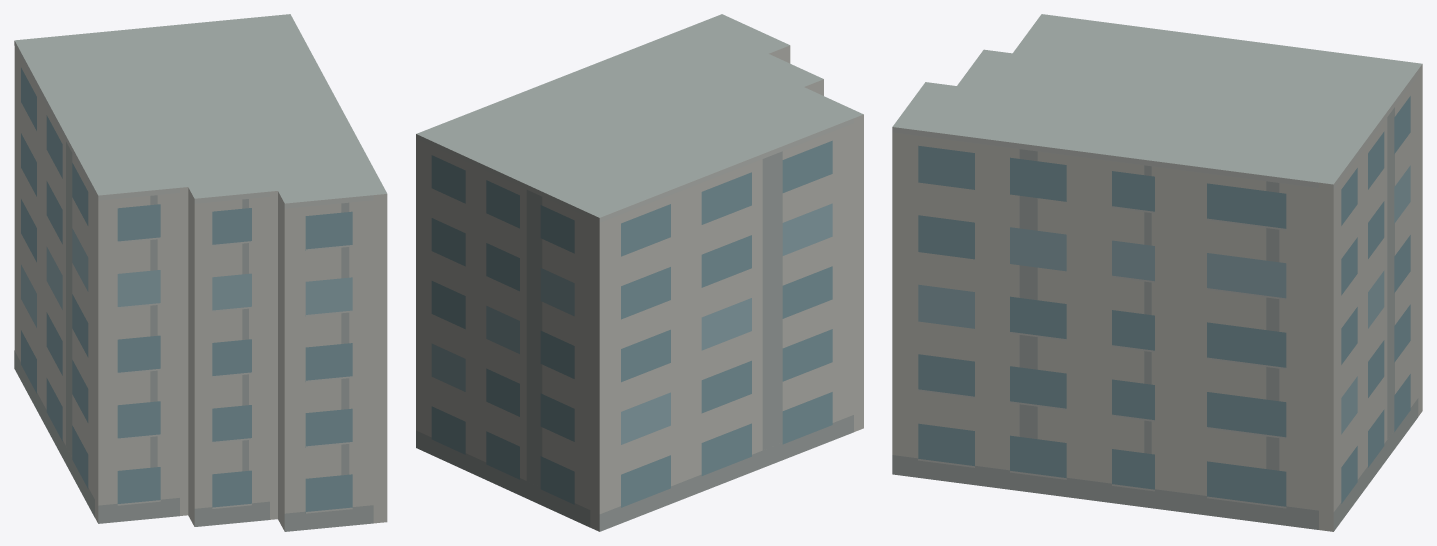
Rendered from survey-upis-32814031.glb.
3 views of the same model, side by side, from view 1: azimuth 30°, elevation 25°; view 2: azimuth 150°, elevation 25°; view 3: azimuth 270°, elevation 25° (orthographic). The views are drawn at different scales.
Visible parts, largest first — view 1: survey-upis-32814031.tmp; view 2: survey-upis-32814031.tmp; view 3: survey-upis-32814031.tmp.
Boxes of the visible parts, x1,y1,x2,y2 form: survey-upis-32814031.tmp: (14,14,387,531); survey-upis-32814031.tmp: (416,14,863,531); survey-upis-32814031.tmp: (892,14,1422,531).
Bounding box in the file's own units: 16.05 × 15.25 × 21.09.
